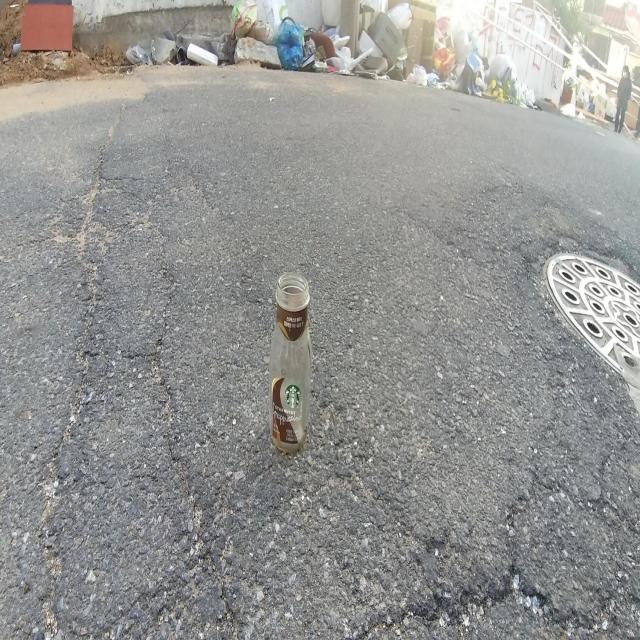glass: (269, 271, 312, 452)
